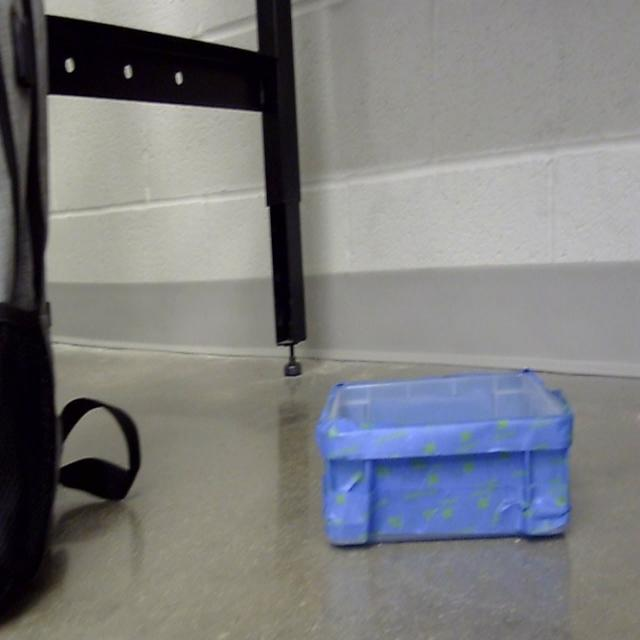bucket: (312, 372, 575, 552)
